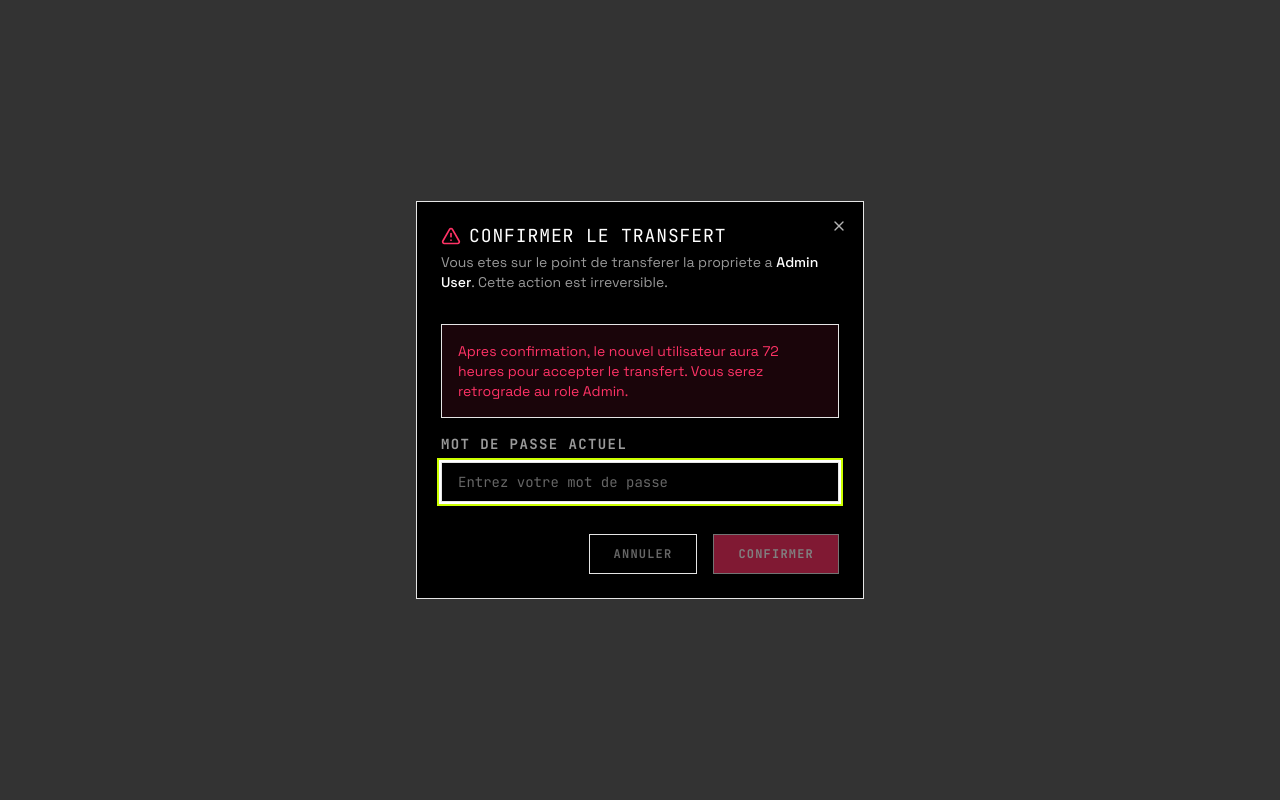
Test: TransferConfirmationDialog › AC #2 - Password Validation › should enable confirm button when password is entered
Type "mypassword" into the password field labelled "MOT DE PASSE ACTUEL" at [640, 482], box x1=441 y1=462 x2=839 y2=502
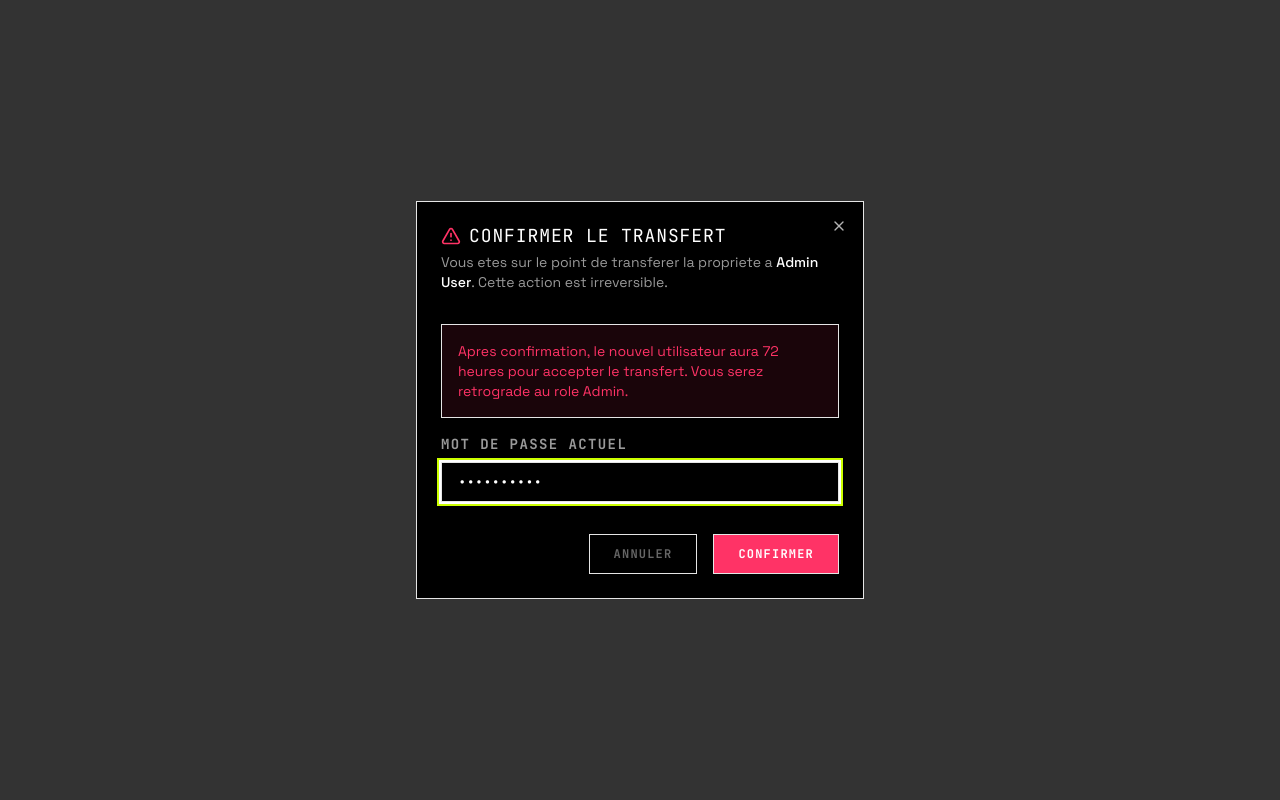
Now the button "CONFIRMER" is enabled, box x1=713 y1=534 x2=839 y2=574
